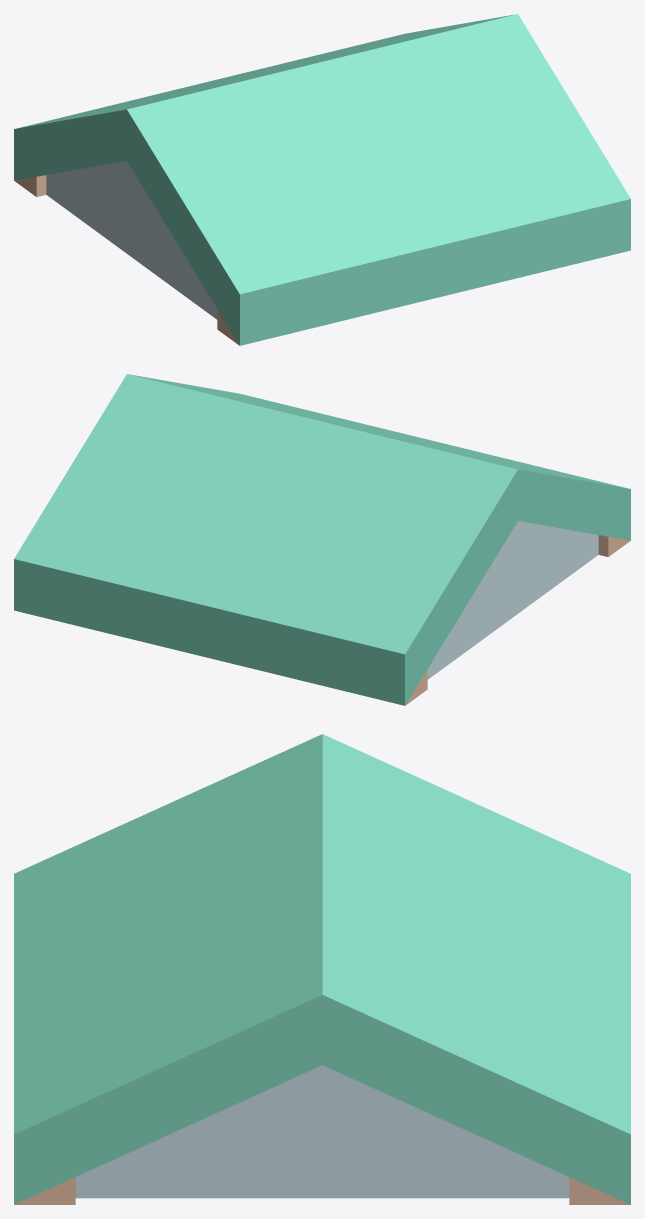
3 renders of one model, top to bottom at view 1: azimuth 30°, elevation 25°; view 2: azimuth 150°, elevation 25°; view 3: azimuth 270°, elevation 25°, orthographic. The views are drawn at different scales.
Parts seen in each view (by area): view 1: roofGableTop; view 2: roofGableTop; view 3: roofGableTop.
Part boxes in pixels (<box>): roofGableTop: <box>14,14,630,345</box>; roofGableTop: <box>14,374,630,705</box>; roofGableTop: <box>14,734,630,1204</box>.
Size of the model in its own units: 1 by 0.3759 by 1.
